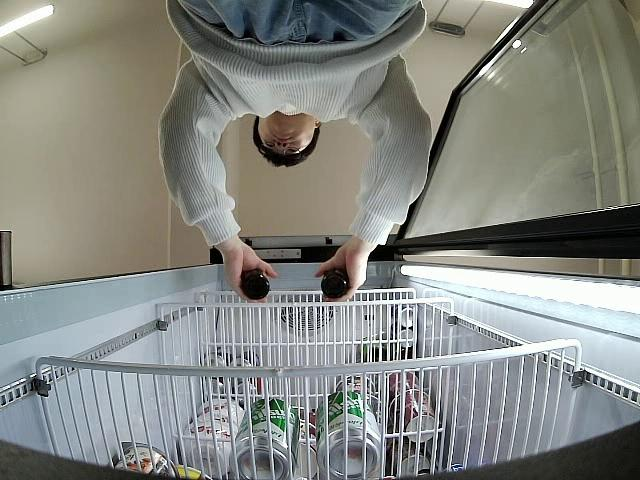00_hand: (223, 244, 277, 306), (314, 251, 368, 304)
17_vita500: (241, 269, 271, 301), (322, 270, 349, 299)
